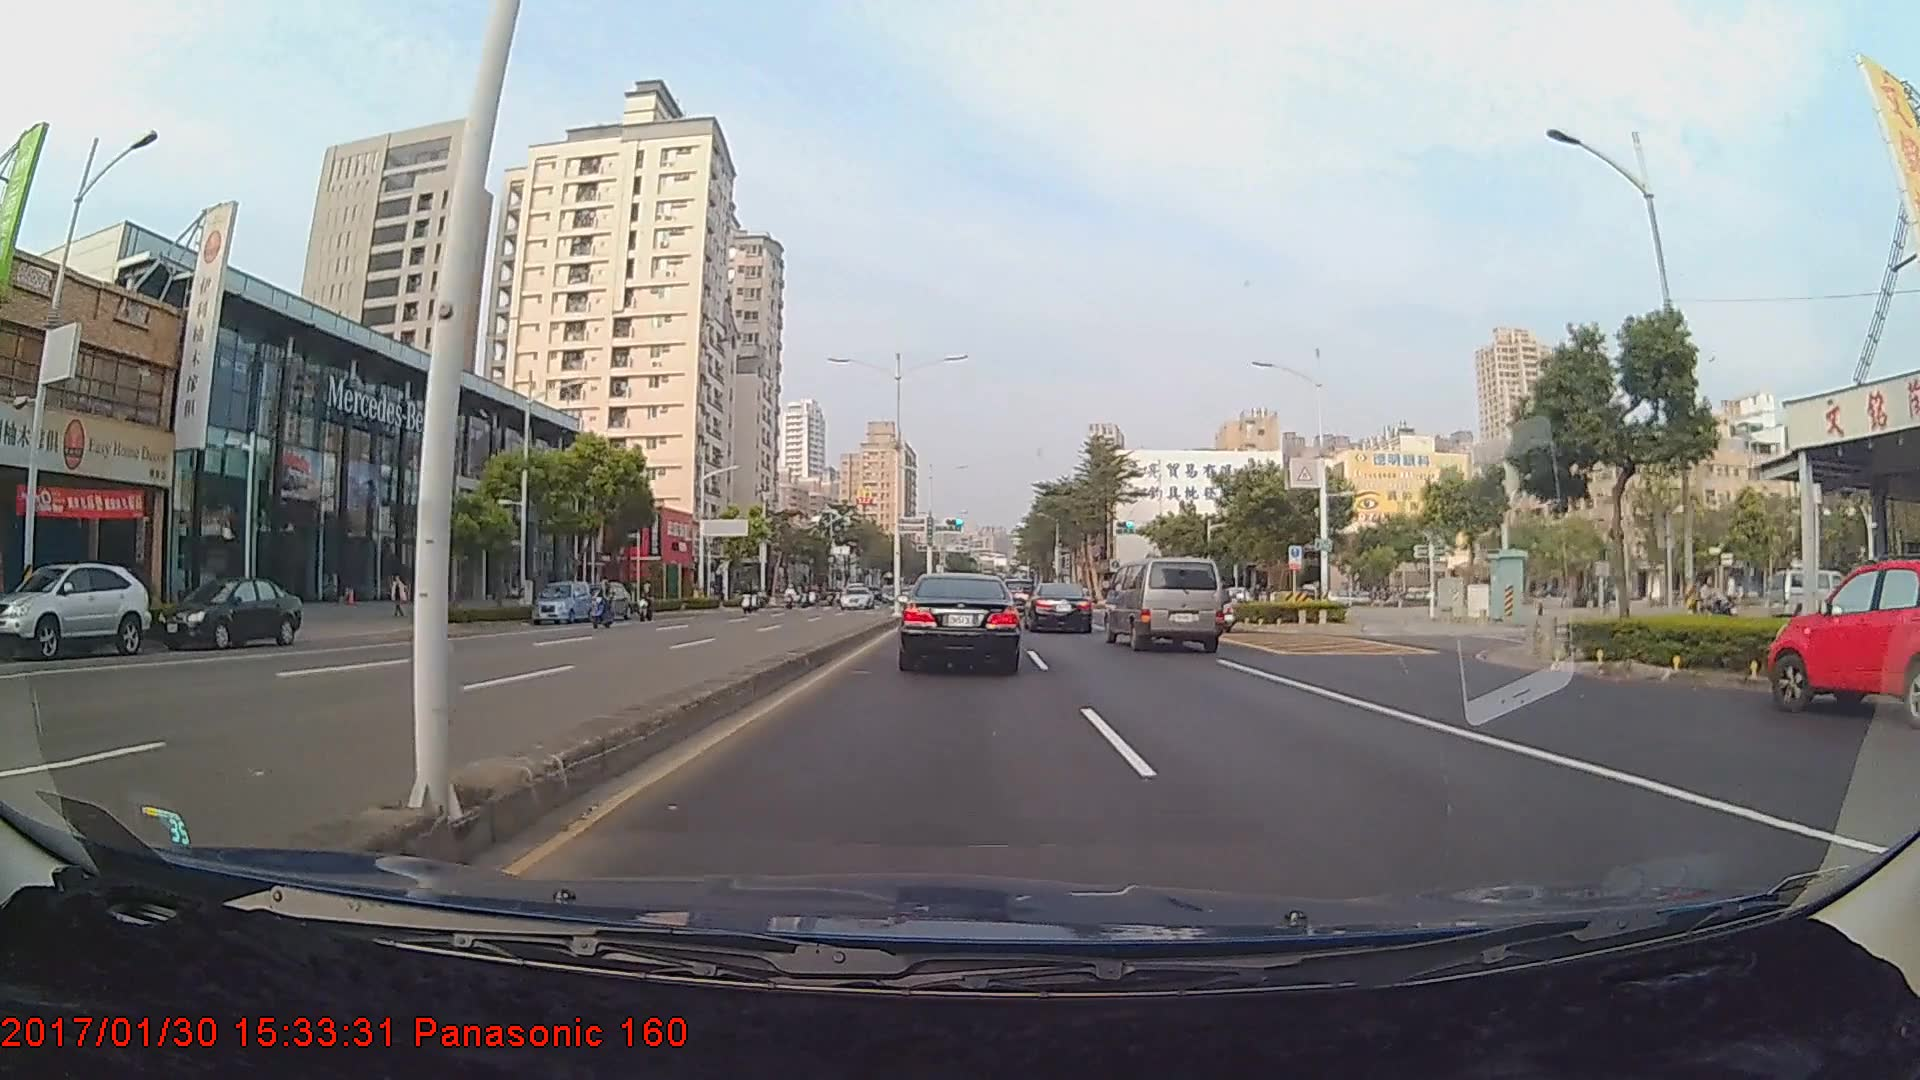pedestrian: (388, 572, 411, 619)
rider: (590, 576, 619, 632), (633, 576, 660, 625)
vehicle: (1763, 555, 1920, 733), (0, 561, 151, 659), (900, 569, 1019, 673), (1105, 556, 1224, 652), (156, 574, 301, 650), (1024, 581, 1094, 635), (530, 578, 592, 623), (578, 579, 629, 620), (837, 584, 876, 610)
